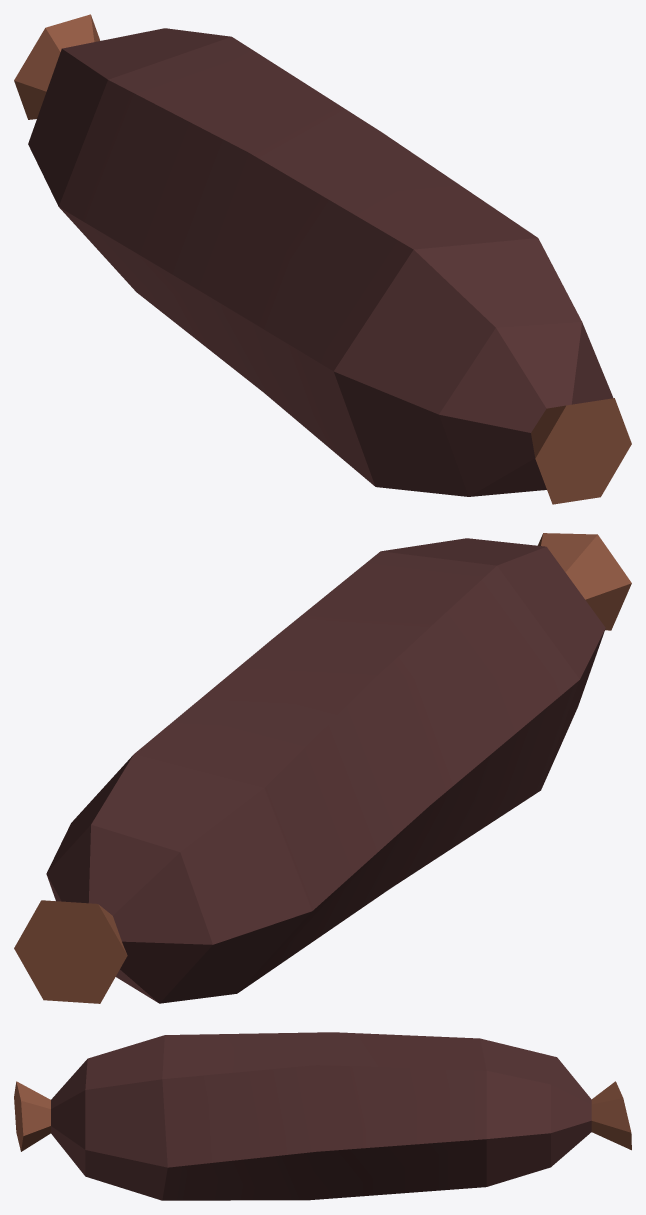
File: kingdom_SM_Item_Meat_Salami_02.gltf
3 views of the same model, one above another, from view 1: azimuth 30°, elevation 25°; view 2: azimuth 150°, elevation 25°; view 3: azimuth 270°, elevation 25° (orthographic). The views are drawn at different scales.
Visible parts, largest first — view 1: SM_Item_Meat_Salami_02; view 2: SM_Item_Meat_Salami_02; view 3: SM_Item_Meat_Salami_02.
Boxes of the visible parts, x1,y1,x2,y2 form: SM_Item_Meat_Salami_02: (14,14,631,504); SM_Item_Meat_Salami_02: (14,533,631,1003); SM_Item_Meat_Salami_02: (14,1032,631,1200).
Bounding box in the file's own units: 0.1245 × 0.1144 × 0.4564.
Materials: 1 (1 with a texture image).
